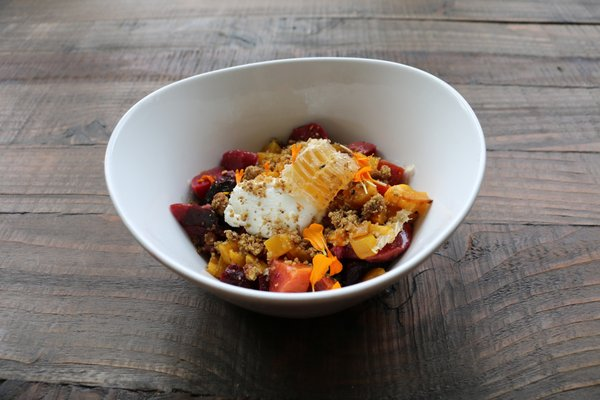sushi: (104, 54, 484, 319)
